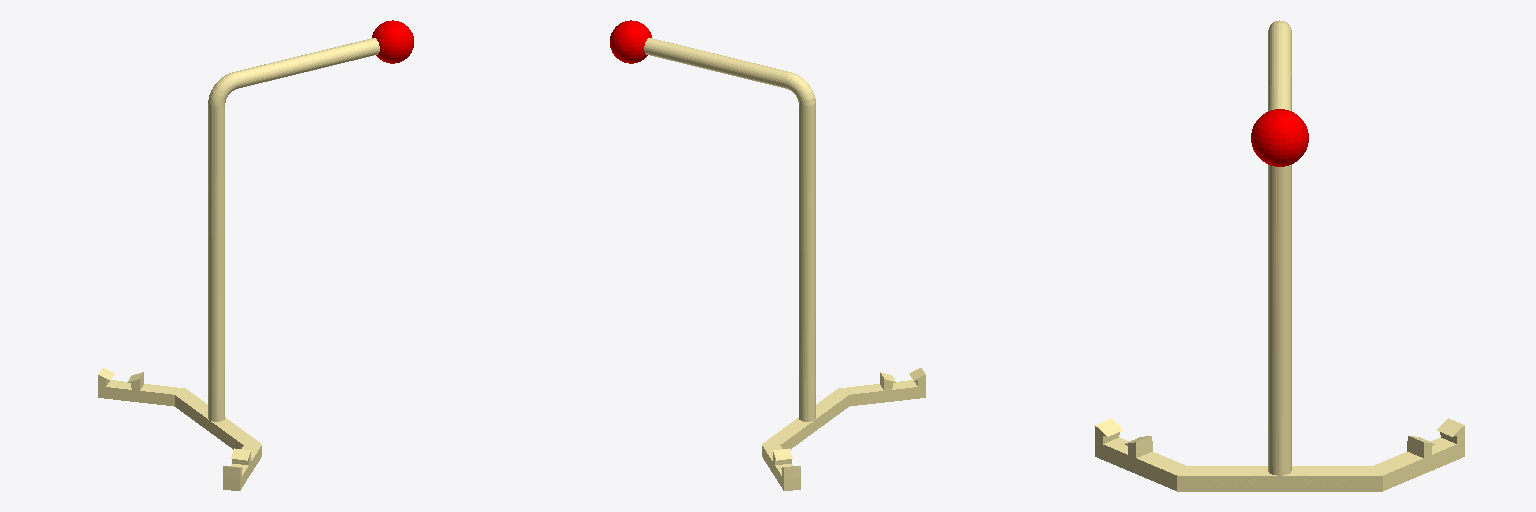
robot.urdf — cf_rviz:
<?xml version="1.0"?>
<robot name="cf_rviz">

  <!-- Crazyflie Link -->
  <link name="crazyflie">
    <visual>
      <origin xyz="0 0 0" rpy="0 0 0"/>
      <geometry>
        <mesh filename="package://mujoco_bridge/data/assets/cf21B/cf21B_full.stl"
              scale="0.001 0.001 0.001"/>
      </geometry>
      <material name="light_gray">
        <color rgba="0.7 0.7 0.7 1.0"/>
      </material>
    </visual>
  </link>


  <!-- End-effector Link -->
  <link name="EE">
    <visual>
      <origin xyz="-0.087 0 -0.088" rpy="0 0 1.5708"/>
      <geometry>
        <mesh filename="package://mujoco_bridge/data/assets/cf21B/cf21B_end_effector.stl"
              scale="0.001 0.001 0.001"/>
      </geometry>
      <material name="light_yellow">
        <color rgba="1.0 0.95 0.7 1.0"/>
      </material>
    </visual>
  </link>

  <!-- End-effector Joint -->
  <joint name="crazyflie_to_end_effector" type="fixed">
    <parent link="crazyflie"/>
    <child link="EE"/>
    <origin xyz="0.087 0 0.088" rpy="0 0 0"/>
  </joint>


  <!-- Sensor Link -->
  <link name="cf21B_ft_sensor">
    <visual>
      <origin xyz="0 0 0" rpy="0 0 0"/>
      <geometry>
        <sphere radius="0.005"/>
      </geometry>
      <material name="red">
        <color rgba="1 0 0 1"/>
      </material>
    </visual>
  </link>

  <!-- Sensor Joint -->
  <joint name="end_effector_to_ft_sensor" type="fixed">
    <parent link="EE"/>
    <child link="cf21B_ft_sensor"/>
    <origin xyz="0 0 0" rpy="0 0 0"/>
  </joint>

</robot>

--- Facts derived from the render (not from the file) ---
Views: 3 orthographic renders of the robot side by side, from view 1: azimuth 30°, elevation 25°; view 2: azimuth 150°, elevation 25°; view 3: azimuth 270°, elevation 25°.
Model cf_rviz with 3 links and 2 joints (2 fixed), rooted at crazyflie, posed every joint at zero.
Links seen in each view (by area): view 1: EE, cf21B_ft_sensor; view 2: EE, cf21B_ft_sensor; view 3: EE, cf21B_ft_sensor.
Boxes of the visible links, x1,y1,x2,y2 form: EE: [98, 38, 379, 490]; cf21B_ft_sensor: [372, 20, 413, 63]; EE: [644, 38, 925, 490]; cf21B_ft_sensor: [610, 20, 651, 63]; EE: [1095, 20, 1464, 491]; cf21B_ft_sensor: [1251, 109, 1308, 166].
Size in the robot's own frame: 0.067 by 0.0637 by 0.093 metres.
1 mesh visuals loaded from 2 distinct referenced files (1 binary STL); not drawn: 1 (reference not matched to a file when rendering).
